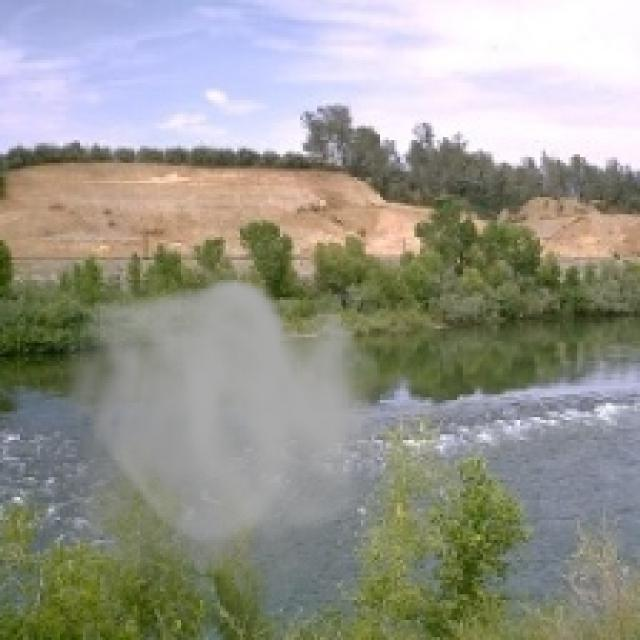smoke: (43, 272, 388, 637)
